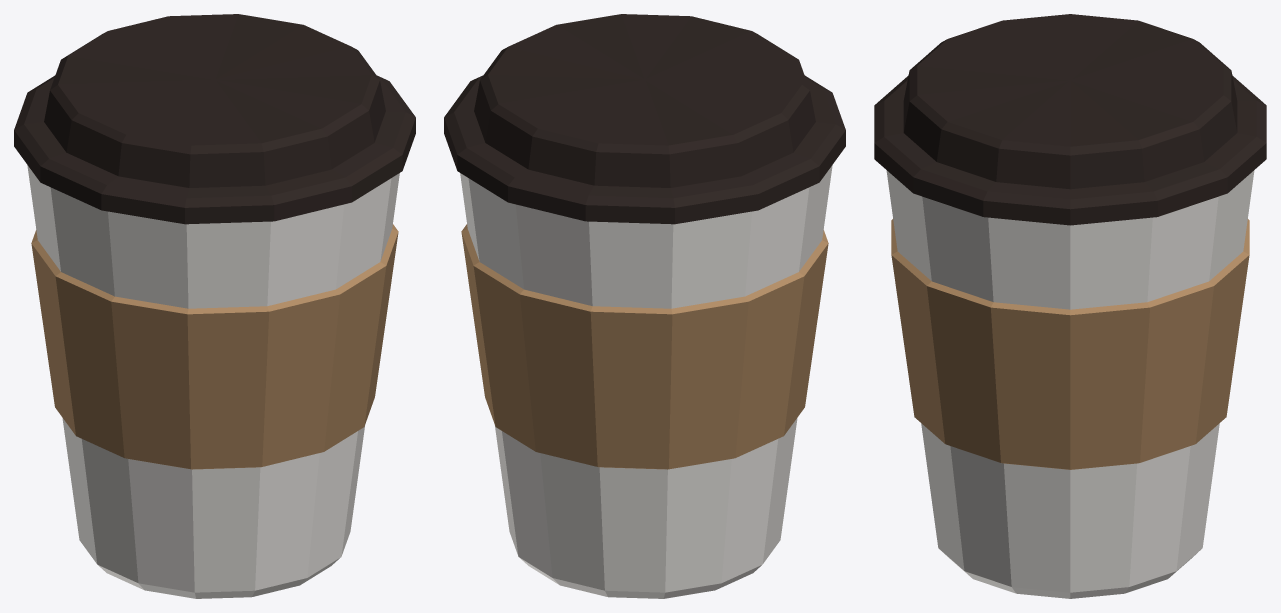
Rendered from vaso_cafe.glb.
The picture shows the model from 3 angles, left to right: view 1: azimuth 30°, elevation 25°; view 2: azimuth 150°, elevation 25°; view 3: azimuth 270°, elevation 25°; orthographic projection.
Visible parts, largest first — view 1: Vaso_cuerpo; view 2: Vaso_cuerpo; view 3: Vaso_cuerpo.
Boxes of the visible parts, <box> form: Vaso_cuerpo: <box>14,14,415,598</box>; Vaso_cuerpo: <box>444,14,845,598</box>; Vaso_cuerpo: <box>874,14,1266,598</box>.
Bounding box in the file's own units: 0.0957 × 0.1223 × 0.0933.
